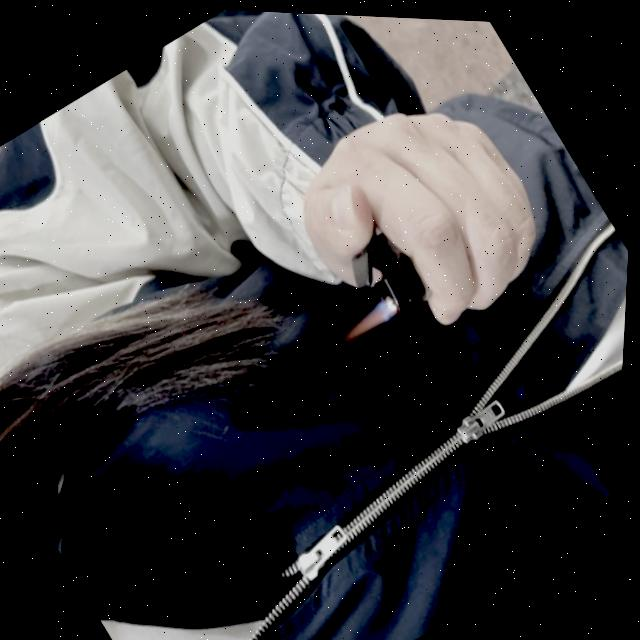Fire: (337, 291, 401, 346)
